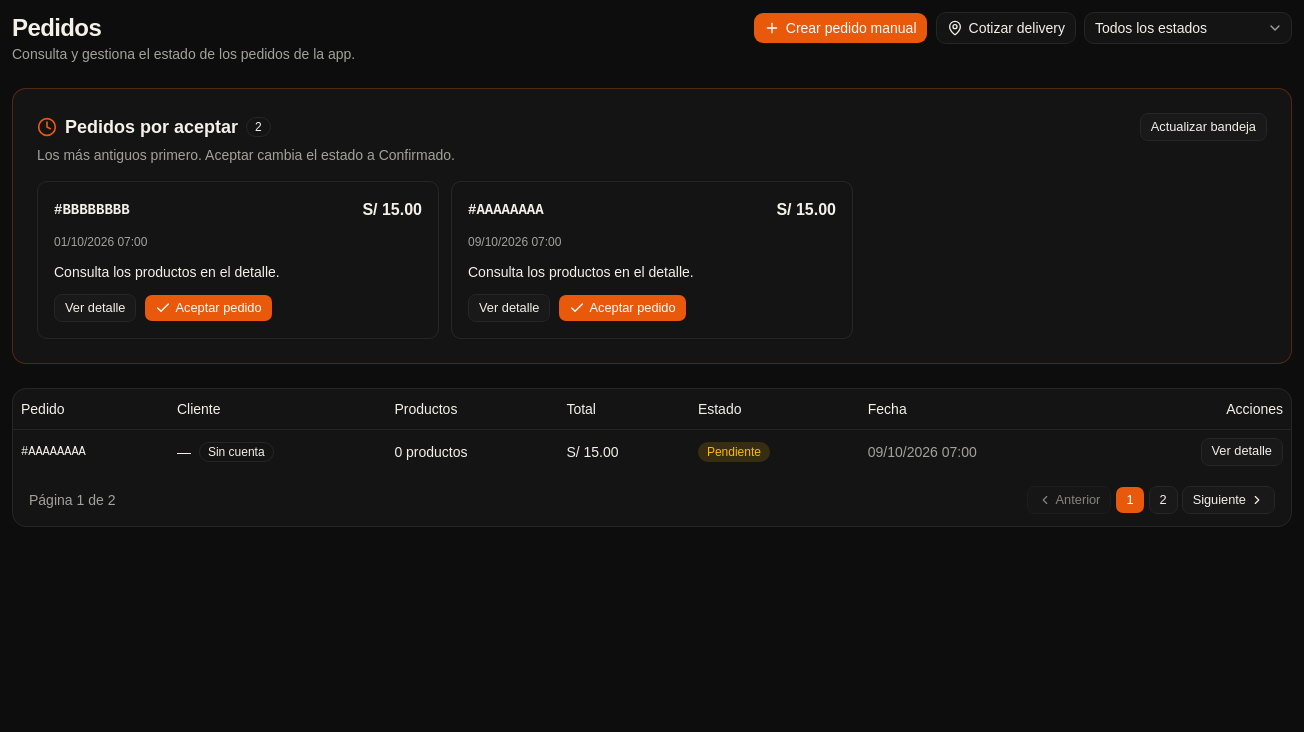
Test: keeps the complete tray when the general table changes page
Check: the element named "Pedido #BBBBBBBB" is shown, box [37, 181, 439, 339]
What coordinates should you click on to do the following:
click the button "Siguiente"
I would click on:
 (1228, 500)
Its box is [1182, 486, 1275, 514].
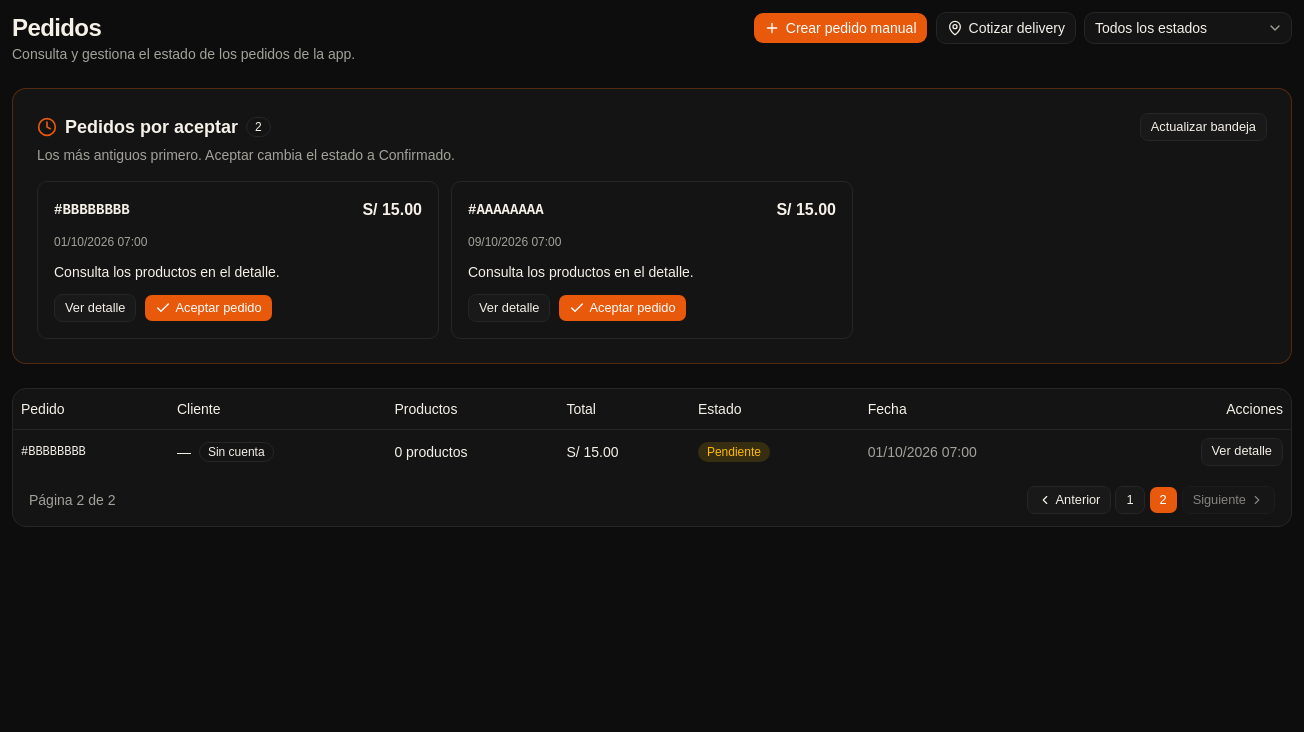
Check: the text "Página 2 de 2" is shown, box [29, 490, 115, 510]
Check: the table shows "#BBBBBBBB", box [13, 389, 1291, 474]
